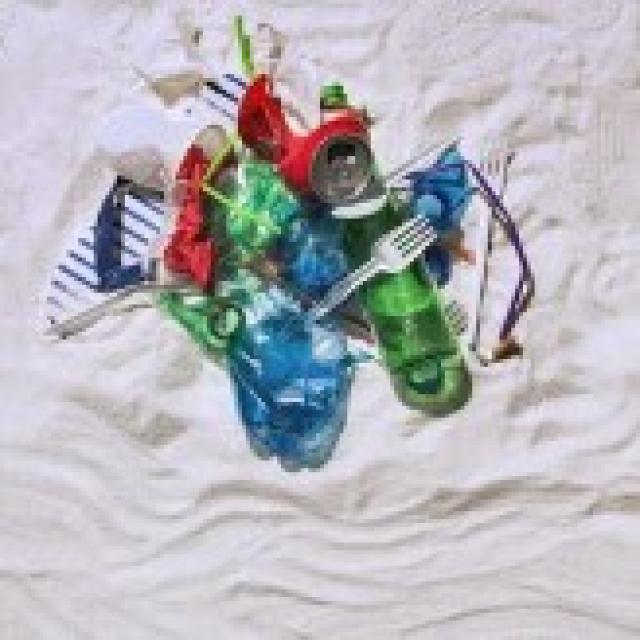electronic: (304, 213, 439, 331)
